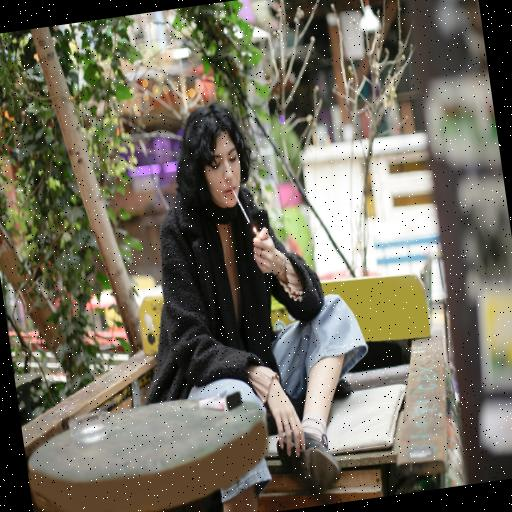terdeteksi merokok: (209, 136, 269, 250)
